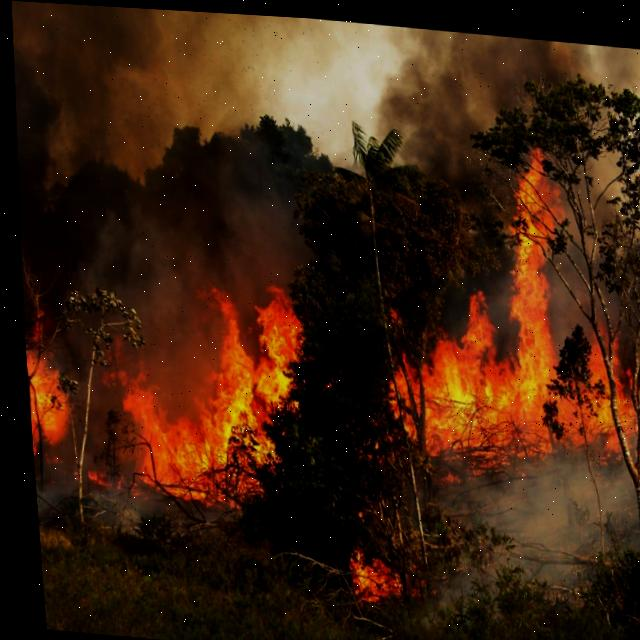fire: (384, 138, 640, 455), (108, 283, 298, 502), (19, 332, 67, 459)
smoke: (375, 20, 640, 196), (11, 1, 245, 154), (435, 457, 615, 600), (77, 230, 205, 385), (218, 167, 302, 294), (238, 11, 319, 97)
